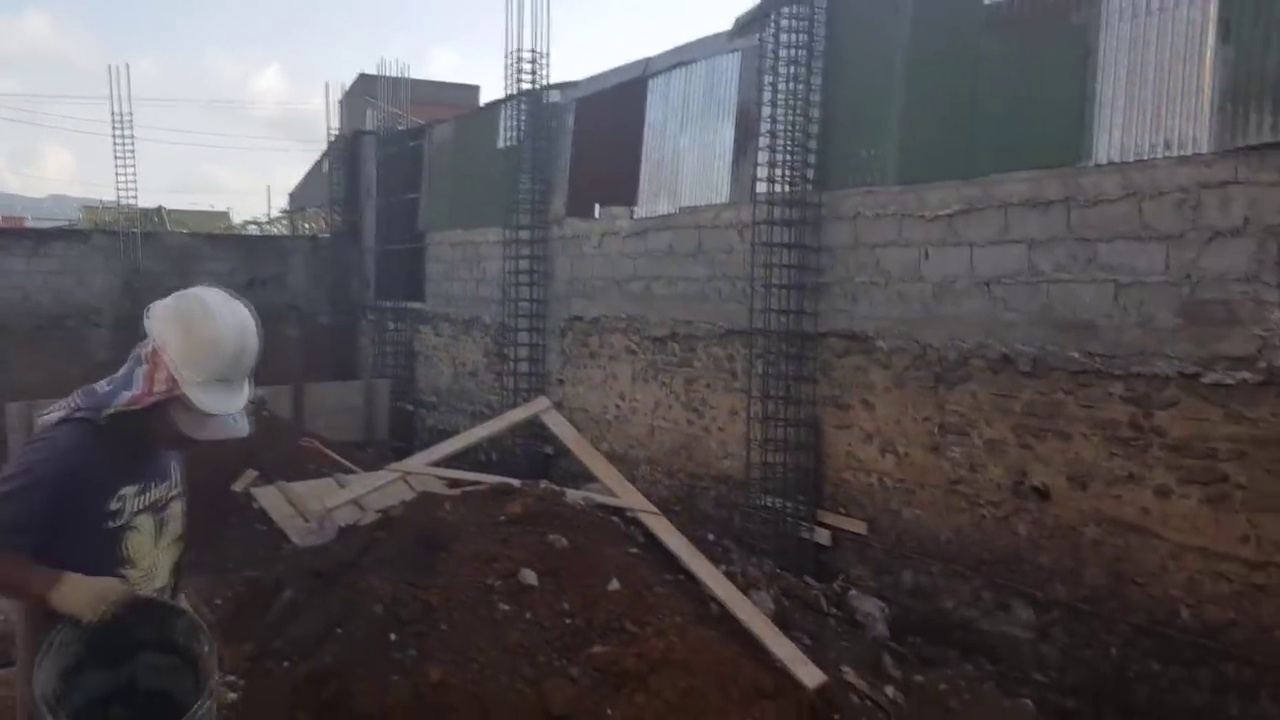helmet: (141, 287, 263, 414)
helmet-on: (125, 284, 267, 456)
person: (1, 283, 267, 720)
